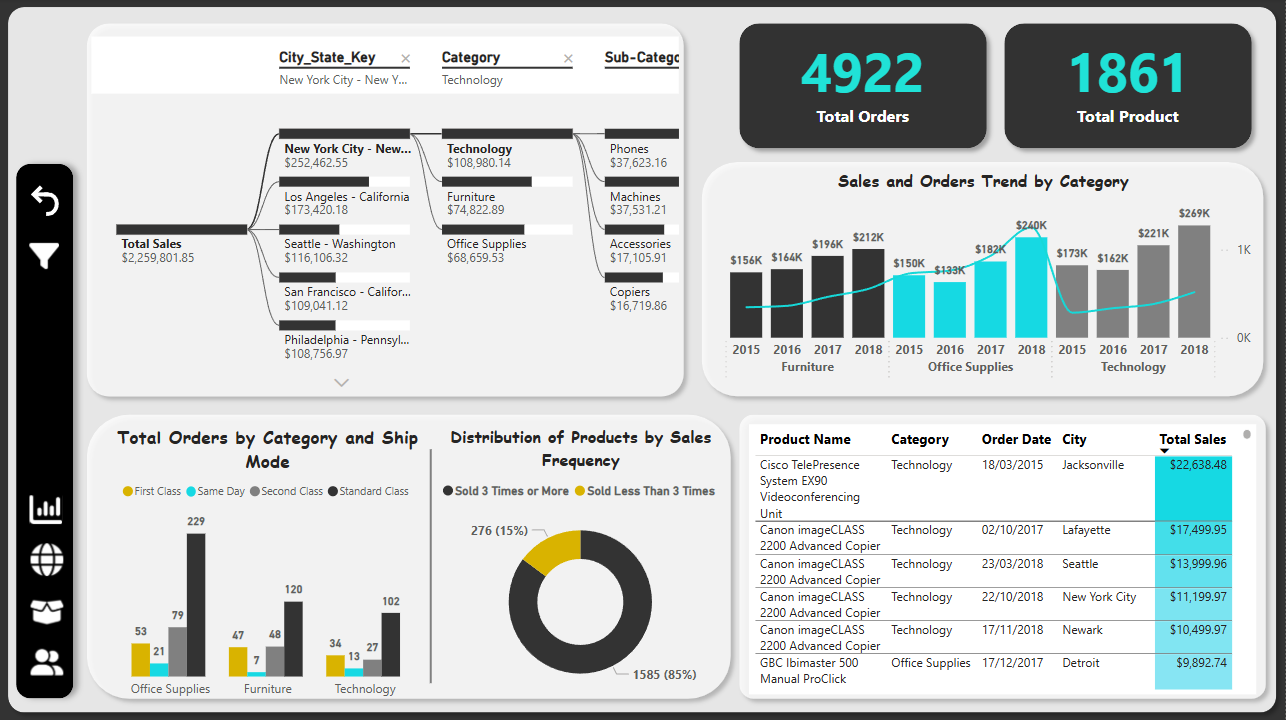

What the dashboard file says about the page in this screenshot:
{"tool":"powerbi","page":{"name":"Product Detail","canvas":[1280,720],"ordinal":2},"visuals":[{"type":"shape","box":[0,0,1280,720],"z":0},{"type":"actionButton","box":[26.1,488.9,65.6,40.7],"z":0,"group":"g1"},{"type":"shape","box":[727.3,16.3,264.8,142.7],"z":1000},{"type":"actionButton","box":[27.3,539.1,65.6,40.7],"z":1000,"group":"g1"},{"type":"shape","box":[991.3,16.3,264.8,142.7],"z":2000},{"type":"actionButton","box":[27.3,590.6,65.6,40.7],"z":2000,"group":"g1"},{"type":"actionButton","box":[27.3,640.8,65.6,40.7],"z":3000,"group":"g1"},{"type":"shape","box":[6,154.4,78.5,553.4],"z":3000},{"type":"actionButton","box":[26,181.3,100.5,39.7],"z":4000},{"type":"actionButton","box":[25.6,236.8,38,40.5],"z":5000},{"type":"shape","box":[78.4,16.2,612,389.4],"z":6000},{"type":"decompositionTreeVisual","fields":{"ExplainBy":["Dim_product.Sub-Category","Dim_product.Category","Dim_location.City_State_Key"],"Analyze":["Measure Table.Total Sales"]},"box":[87.1,33.6,594.6,371.9],"z":7000},{"type":"shape","box":[727.7,405.5,542.4,301],"z":8000},{"type":"tableEx","fields":{"Values":["Dim_product.Product Name","Dim_product.Category","Fact_Sales.Order Date","Dim_location.Country Hierarchy.City","Measure Table.Total Sales"]},"box":[746.4,424.2,505,268.7],"z":9000},{"type":"card","fields":{"Values":["Measure Table.Total Orders"]},"box":[761.5,16.9,196.8,129.9],"z":10000},{"type":"card","fields":{"Values":["Measure Table.Total Product"]},"box":[1024.8,17.1,197.1,129.3],"z":11000},{"type":"shape","box":[690.4,154.3,577.2,251.3],"z":12000},{"type":"lineClusteredColumnComboChart","title":"Sales and Orders Trend by Category","fields":{"Y":["Measure Table.Total Sales"],"Category":["Dim_product.Category","Dim_Date.Year Hierarchy.Year"],"Y2":["Measure Table.Total Orders"]},"box":[706.6,170.4,546.1,218.9],"z":13000},{"type":"shape","box":[78.4,405.5,659.3,301],"z":14000},{"type":"donutChart","title":"Distribution of Products by Sales Frequency","fields":{"Category":["Fact_Sales.Product Sales Category"],"Y":["Measure Table.Total Product"]},"box":[430.4,425.4,297.3,277.4],"z":15000},{"type":"clusteredColumnChart","title":"Total Orders  by Category and Ship Mode","fields":{"Y":["Measure Table.Total Orders"],"Category":["Dim_product.Category"],"Series":["Fact_Sales.Ship Mode"]},"box":[88.3,424.2,358.3,281.1],"z":16000},{"type":"group","id":"g1","title":"Navigation Buttons","box":[26.1,488.9,67.2,192.8],"z":17000},{"type":"shape","box":[409.3,449.1,41.1,232.6],"z":18000}]}

Visuals, with their boxes on the page's 1280x720 design canvas (x1, y1, x2, y2). These are canvas units, not pixel positions in the 1286x720 screenshot, which may show the page scaled, cropped or inside an application window:
shape: bbox=[0, 0, 1280, 720]
actionButton: bbox=[26, 489, 92, 530]
shape: bbox=[727, 16, 992, 159]
actionButton: bbox=[27, 539, 93, 580]
shape: bbox=[991, 16, 1256, 159]
actionButton: bbox=[27, 591, 93, 631]
actionButton: bbox=[27, 641, 93, 682]
shape: bbox=[6, 154, 84, 708]
actionButton: bbox=[26, 181, 126, 221]
actionButton: bbox=[26, 237, 64, 277]
shape: bbox=[78, 16, 690, 406]
decompositionTreeVisual - Dim_product.Sub-Category x Dim_product.Category: bbox=[87, 34, 682, 406]
shape: bbox=[728, 406, 1270, 706]
tableEx - Dim_product.Product Name x Dim_product.Category: bbox=[746, 424, 1251, 693]
card - Measure Table.Total Orders: bbox=[762, 17, 958, 147]
card - Measure Table.Total Product: bbox=[1025, 17, 1222, 146]
shape: bbox=[690, 154, 1268, 406]
"Sales and Orders Trend by Category" lineClusteredColumnComboChart: bbox=[707, 170, 1253, 389]
shape: bbox=[78, 406, 738, 706]
"Distribution of Products by Sales Frequency" donutChart: bbox=[430, 425, 728, 703]
"Total Orders  by Category and Ship Mode" clusteredColumnChart: bbox=[88, 424, 447, 705]
"Navigation Buttons" group: bbox=[26, 489, 93, 682]
shape: bbox=[409, 449, 450, 682]
